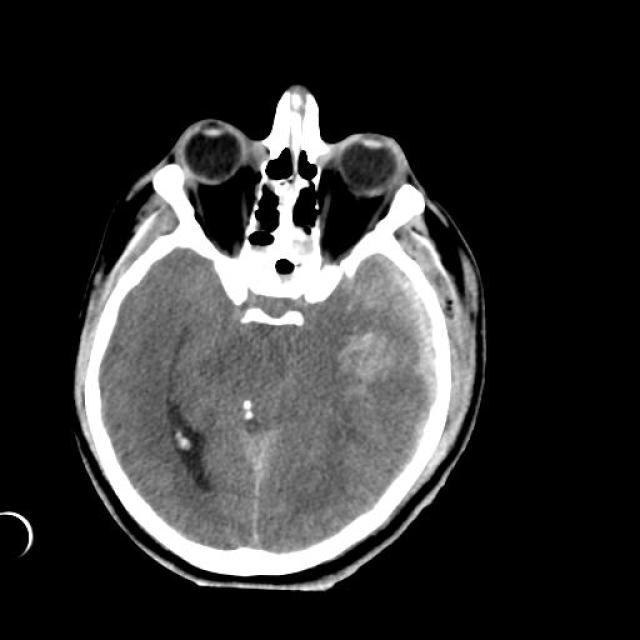Intraparenchymal: (315, 324, 407, 420)
Subarachnoid: (231, 424, 284, 545)
Subdural: (377, 249, 462, 459)
